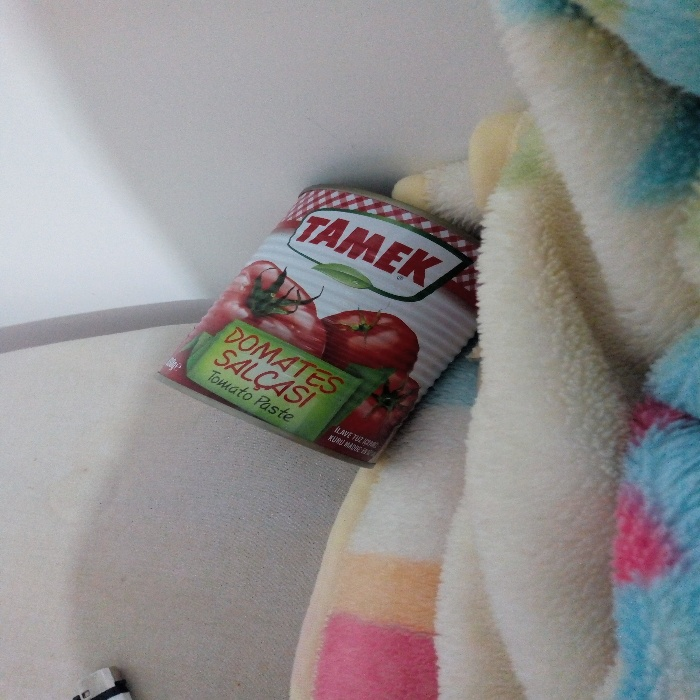salca: (152, 159, 499, 459)
